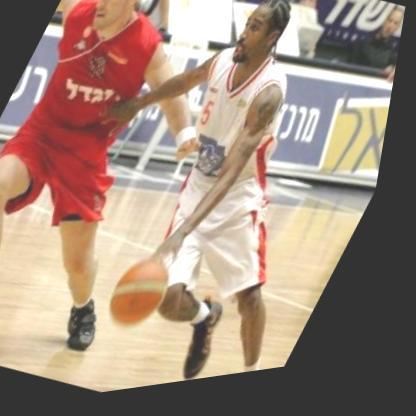basketball: (103, 245, 198, 345)
